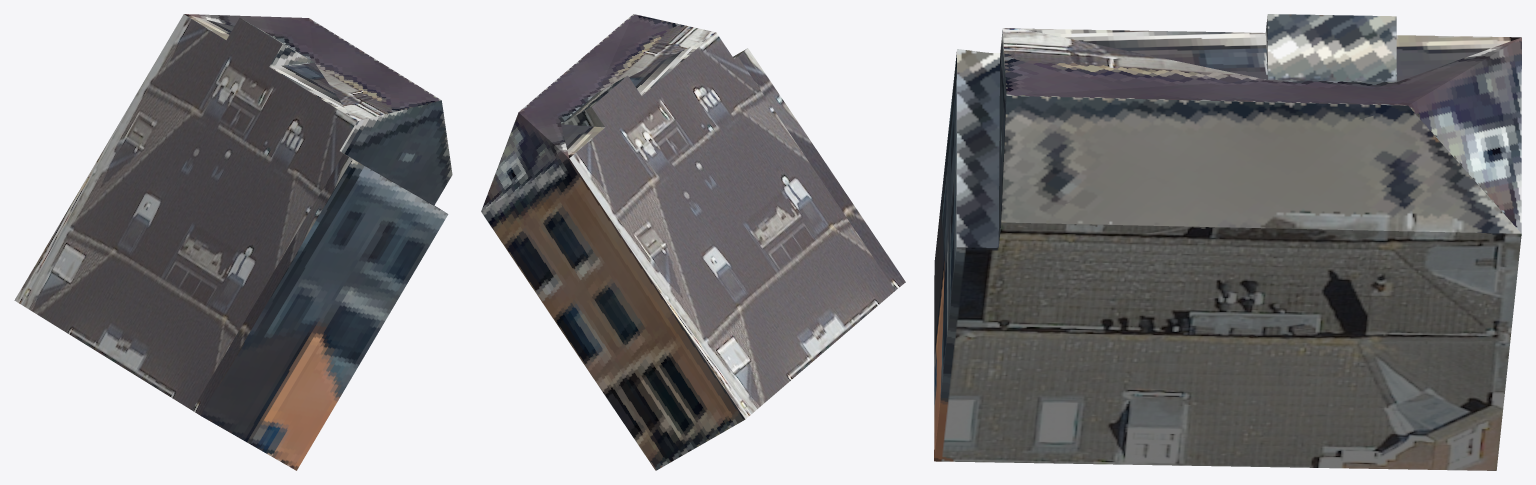
The picture shows the model from 3 angles, left to right: view 1: azimuth 30°, elevation 25°; view 2: azimuth 150°, elevation 25°; view 3: azimuth 270°, elevation 25°; orthographic projection. The views are drawn at different scales.
Visible parts, largest first — view 1: BAG_0599100000688752 (×3); view 2: BAG_0599100000688752 (×4); view 3: BAG_0599100000688752 (×4).
Boxes of the visible parts, x1=… form: BAG_0599100000688752 (×3): x1=14, y1=14, x2=452, y2=470; BAG_0599100000688752 (×4): x1=481, y1=14, x2=905, y2=470; BAG_0599100000688752 (×4): x1=934, y1=14, x2=1521, y2=470.
Size of the model in its own units: 11.36 by 13.04 by 12.97.
Materials: 1 (1 with a texture image).
